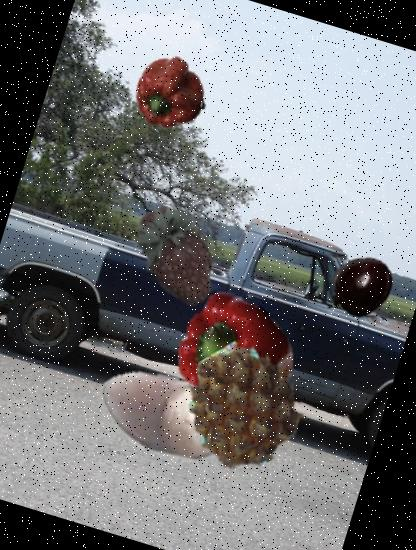Cherry: (321, 247, 402, 328)
Hazelnut: (78, 325, 257, 504)
Pepper: (152, 279, 320, 448), (125, 46, 219, 140)
Pineapple: (167, 331, 318, 482)
Strawberry: (112, 186, 247, 320)
